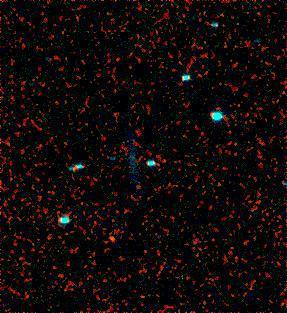star: (96, 224, 126, 254)
